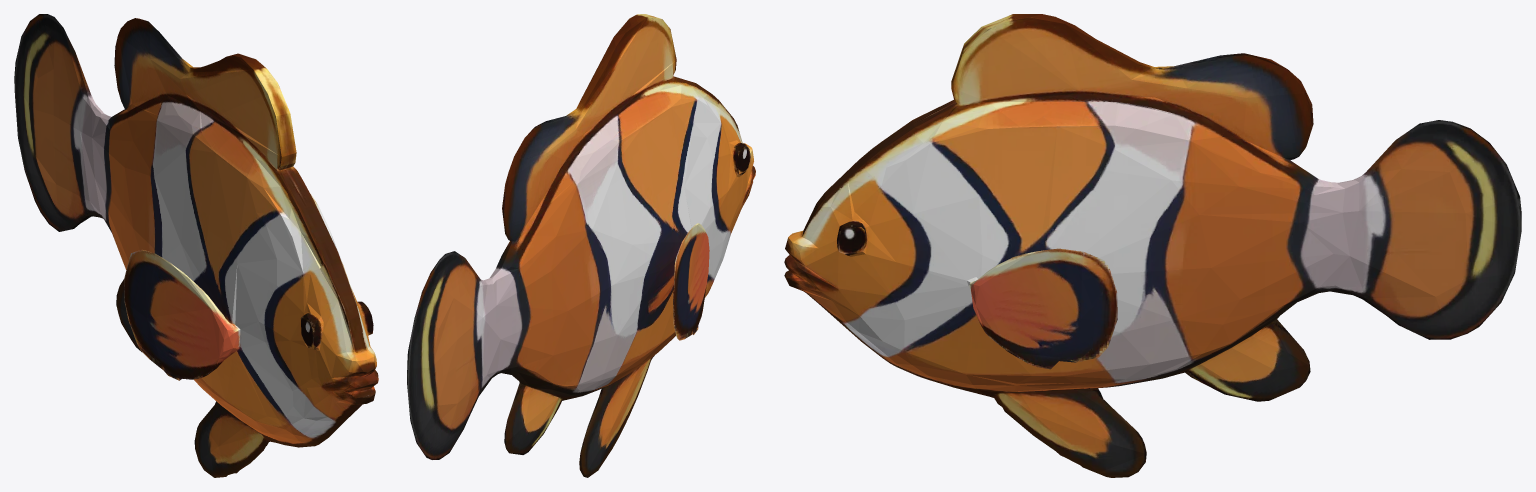
Rendered from Copilot3D-fish.glb.
3 renders of one model, left to right at view 1: azimuth 30°, elevation 25°; view 2: azimuth 150°, elevation 25°; view 3: azimuth 270°, elevation 25°, orthographic. The views are drawn at different scales.
Visible parts, largest first — view 1: world; view 2: world; view 3: world.
Part boxes in pixels (x1,y1,x2,y2): world: (14, 14, 378, 477); world: (407, 14, 755, 477); world: (784, 14, 1521, 477).
Bounding box in the file's own units: 0.2747 × 0.6919 × 0.9999.
Materials: 1 (1 with a texture image).
